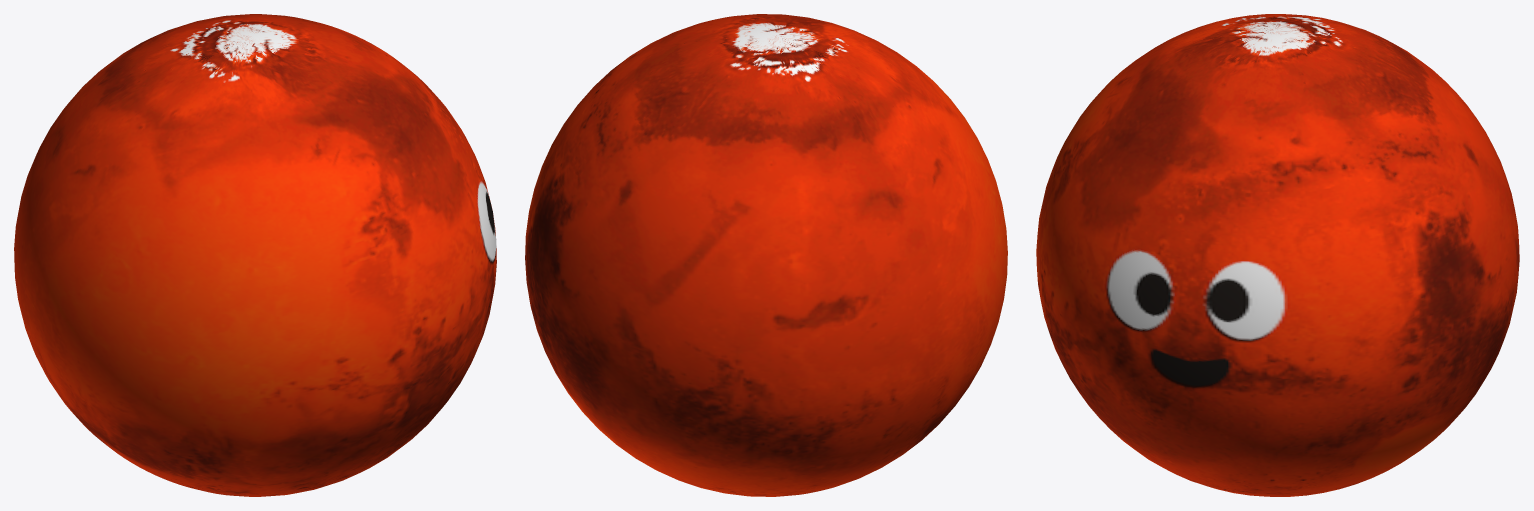
Rendered from mars_form_gumball.glb.
3 renders of one model, left to right at view 1: azimuth 30°, elevation 25°; view 2: azimuth 150°, elevation 25°; view 3: azimuth 270°, elevation 25°, orthographic.
Visible parts, largest first — view 1: Sphere; view 2: Sphere; view 3: Sphere.
Boxes of the visible parts, x1,y1,x2,y2 form: Sphere: (14, 14, 496, 496); Sphere: (525, 14, 1007, 496); Sphere: (1036, 14, 1519, 496).
Bounding box in the file's own units: 10.59 × 10.59 × 10.59.
Materials: 1 (1 with a texture image).
